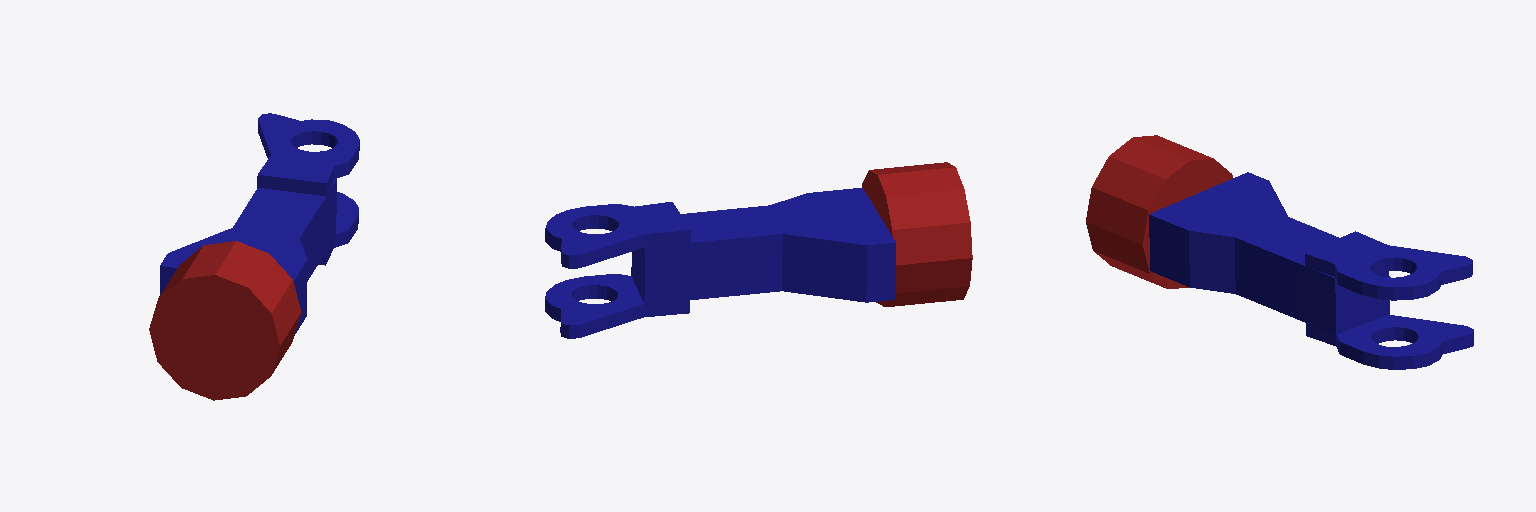
Rendered from L_SFE.obj.
3 renders of one model, left to right at view 1: azimuth 30°, elevation 25°; view 2: azimuth 150°, elevation 25°; view 3: azimuth 270°, elevation 25°, orthographic.
Parts seen in each view (by area): view 1: L_SFE.3_ShapeIndexedFaceS.073, L_SFE.4_ShapeIndexedFaceS.074, L_SFE.2_ShapeIndexedFaceS.072, L_SFE.1_ShapeIndexedFaceS.071; view 2: L_SFE.4_ShapeIndexedFaceS.074, L_SFE.3_ShapeIndexedFaceS.073, L_SFE.2_ShapeIndexedFaceS.072, L_SFE.1_ShapeIndexedFaceS.071; view 3: L_SFE.4_ShapeIndexedFaceS.074, L_SFE.3_ShapeIndexedFaceS.073, L_SFE.2_ShapeIndexedFaceS.072, L_SFE.1_ShapeIndexedFaceS.071.
Boxes of the visible parts, <box> form: L_SFE.3_ShapeIndexedFaceS.073: <box>149,241,300,400</box>; L_SFE.4_ShapeIndexedFaceS.074: <box>159,179,336,333</box>; L_SFE.2_ShapeIndexedFaceS.072: <box>257,113,359,196</box>; L_SFE.1_ShapeIndexedFaceS.071: <box>318,192,358,265</box>; L_SFE.4_ShapeIndexedFaceS.074: <box>631,188,895,304</box>; L_SFE.3_ShapeIndexedFaceS.073: <box>862,162,972,306</box>; L_SFE.2_ShapeIndexedFaceS.072: <box>545,202,690,268</box>; L_SFE.1_ShapeIndexedFaceS.071: <box>545,274,689,338</box>; L_SFE.4_ShapeIndexedFaceS.074: <box>1149,172,1389,334</box>; L_SFE.3_ShapeIndexedFaceS.073: <box>1086,135,1232,288</box>; L_SFE.2_ShapeIndexedFaceS.072: <box>1305,231,1472,300</box>; L_SFE.1_ShapeIndexedFaceS.071: <box>1306,315,1473,369</box>.
Size of the model in its own units: 8.12 by 3.18 by 8.76.